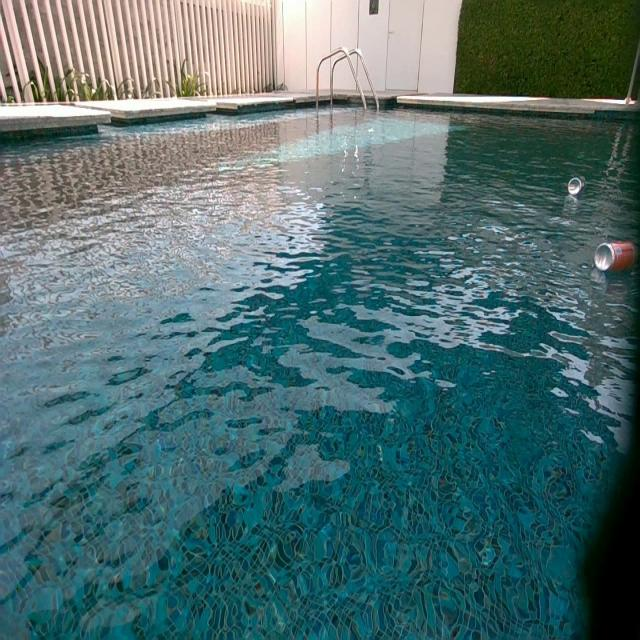Cans: (595, 242, 638, 277), (567, 176, 585, 195)
